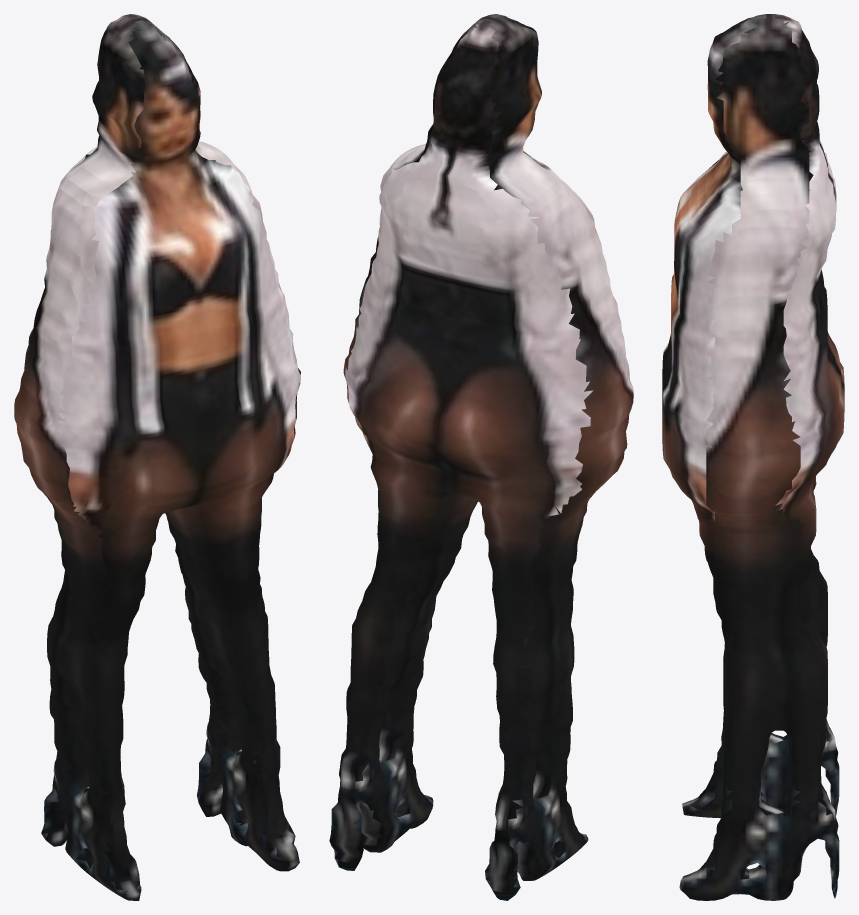
Rendered from rouge.glb.
The picture shows the model from 3 angles, left to right: view 1: azimuth 30°, elevation 25°; view 2: azimuth 150°, elevation 25°; view 3: azimuth 270°, elevation 25°; orthographic projection. The views are drawn at different scales.
Parts seen in each view (by area): view 1: Rouge; view 2: Rouge; view 3: Rouge.
Part boxes in pixels (x1,y1,x2,y2): Rouge: [14, 14, 300, 900]; Rouge: [329, 14, 633, 900]; Rouge: [662, 14, 844, 900].
Size of the model in its own units: 0.5557 by 1.74 by 0.3458.
1 material, 1 textured.
